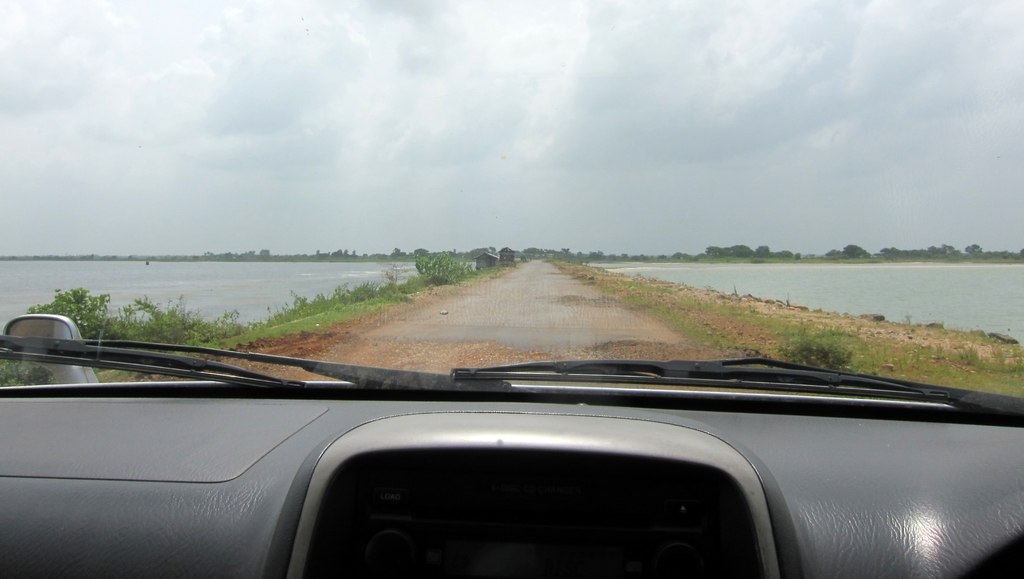cars: (0, 337, 965, 579)
